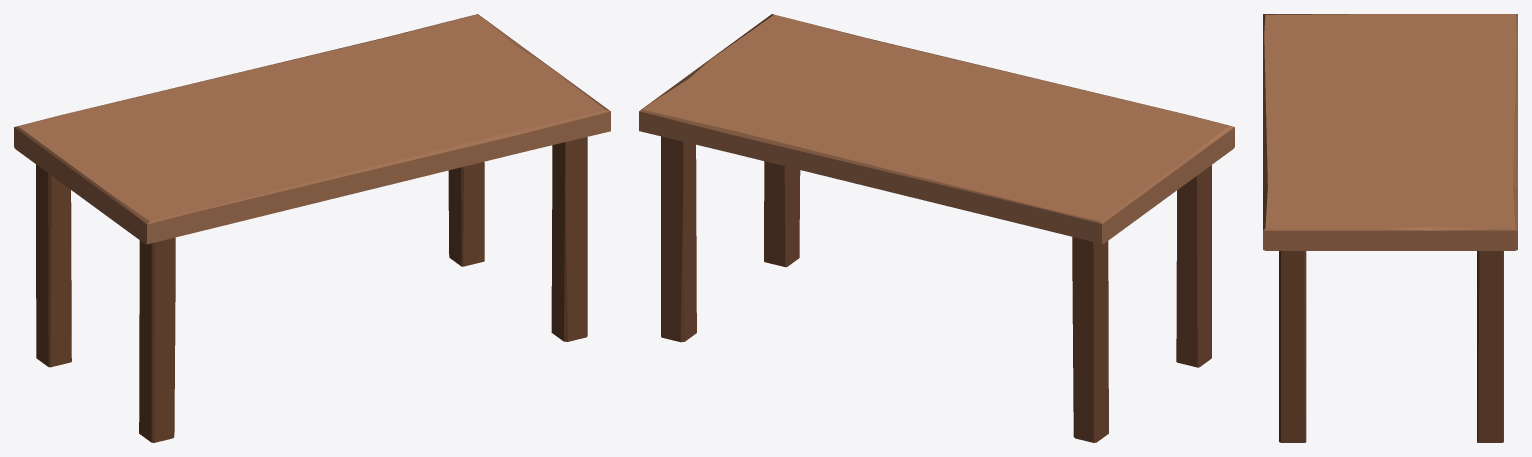
Rendered from Object_Table.fbx.
The picture shows the model from 3 angles, left to right: view 1: azimuth 30°, elevation 25°; view 2: azimuth 150°, elevation 25°; view 3: azimuth 270°, elevation 25°; orthographic projection. The views are drawn at different scales.
Visible parts, largest first — view 1: Object_Table; view 2: Object_Table; view 3: Object_Table.
Part boxes in pixels (bbox=[...]): Object_Table: bbox=[14, 14, 610, 442]; Object_Table: bbox=[639, 14, 1234, 442]; Object_Table: bbox=[1263, 14, 1517, 442].
Size of the model in its own units: 31.69 by 14.98 by 15.75.
Materials: 1 (1 with a texture image).
